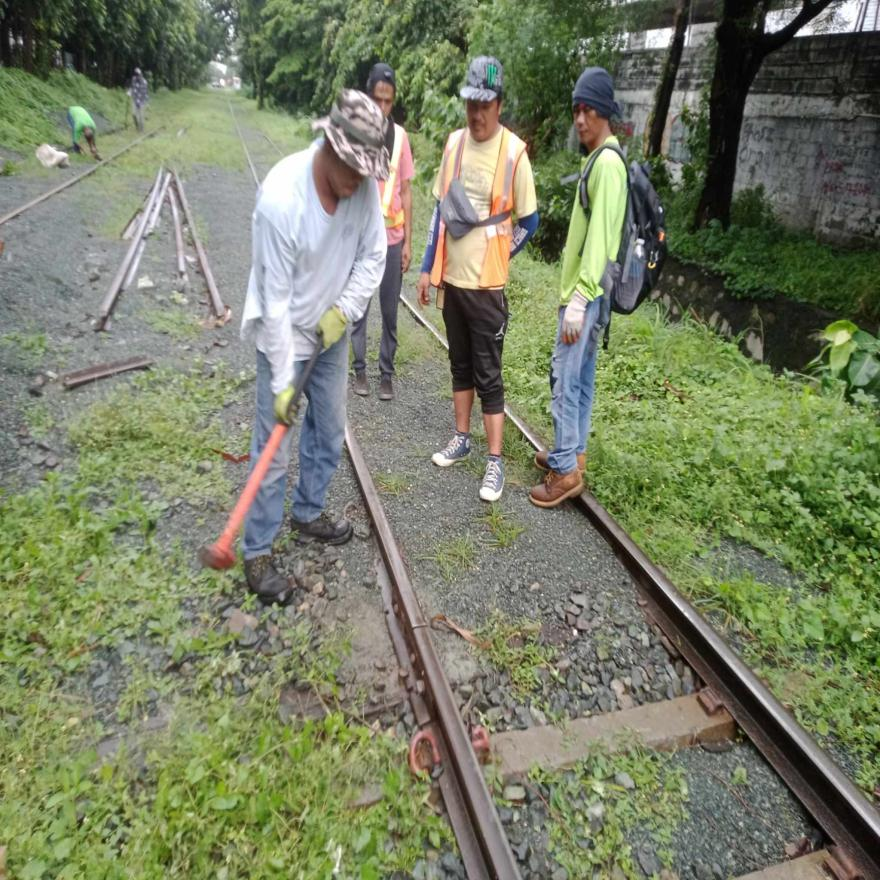railway-gap: (390, 592, 448, 666)
